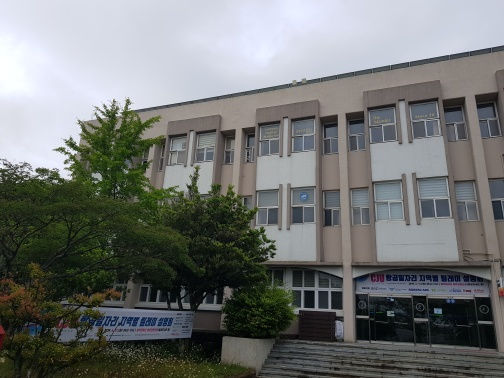Main Building of University: (107, 71, 500, 371), (337, 248, 500, 374)
